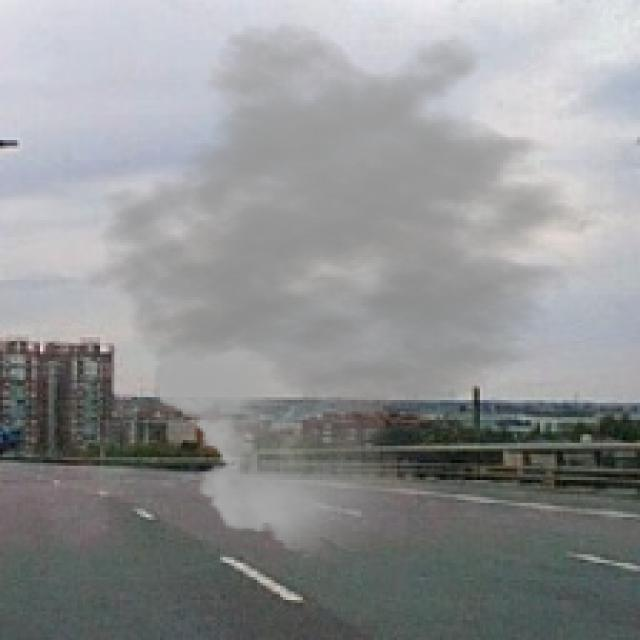smoke: (83, 20, 631, 560)
